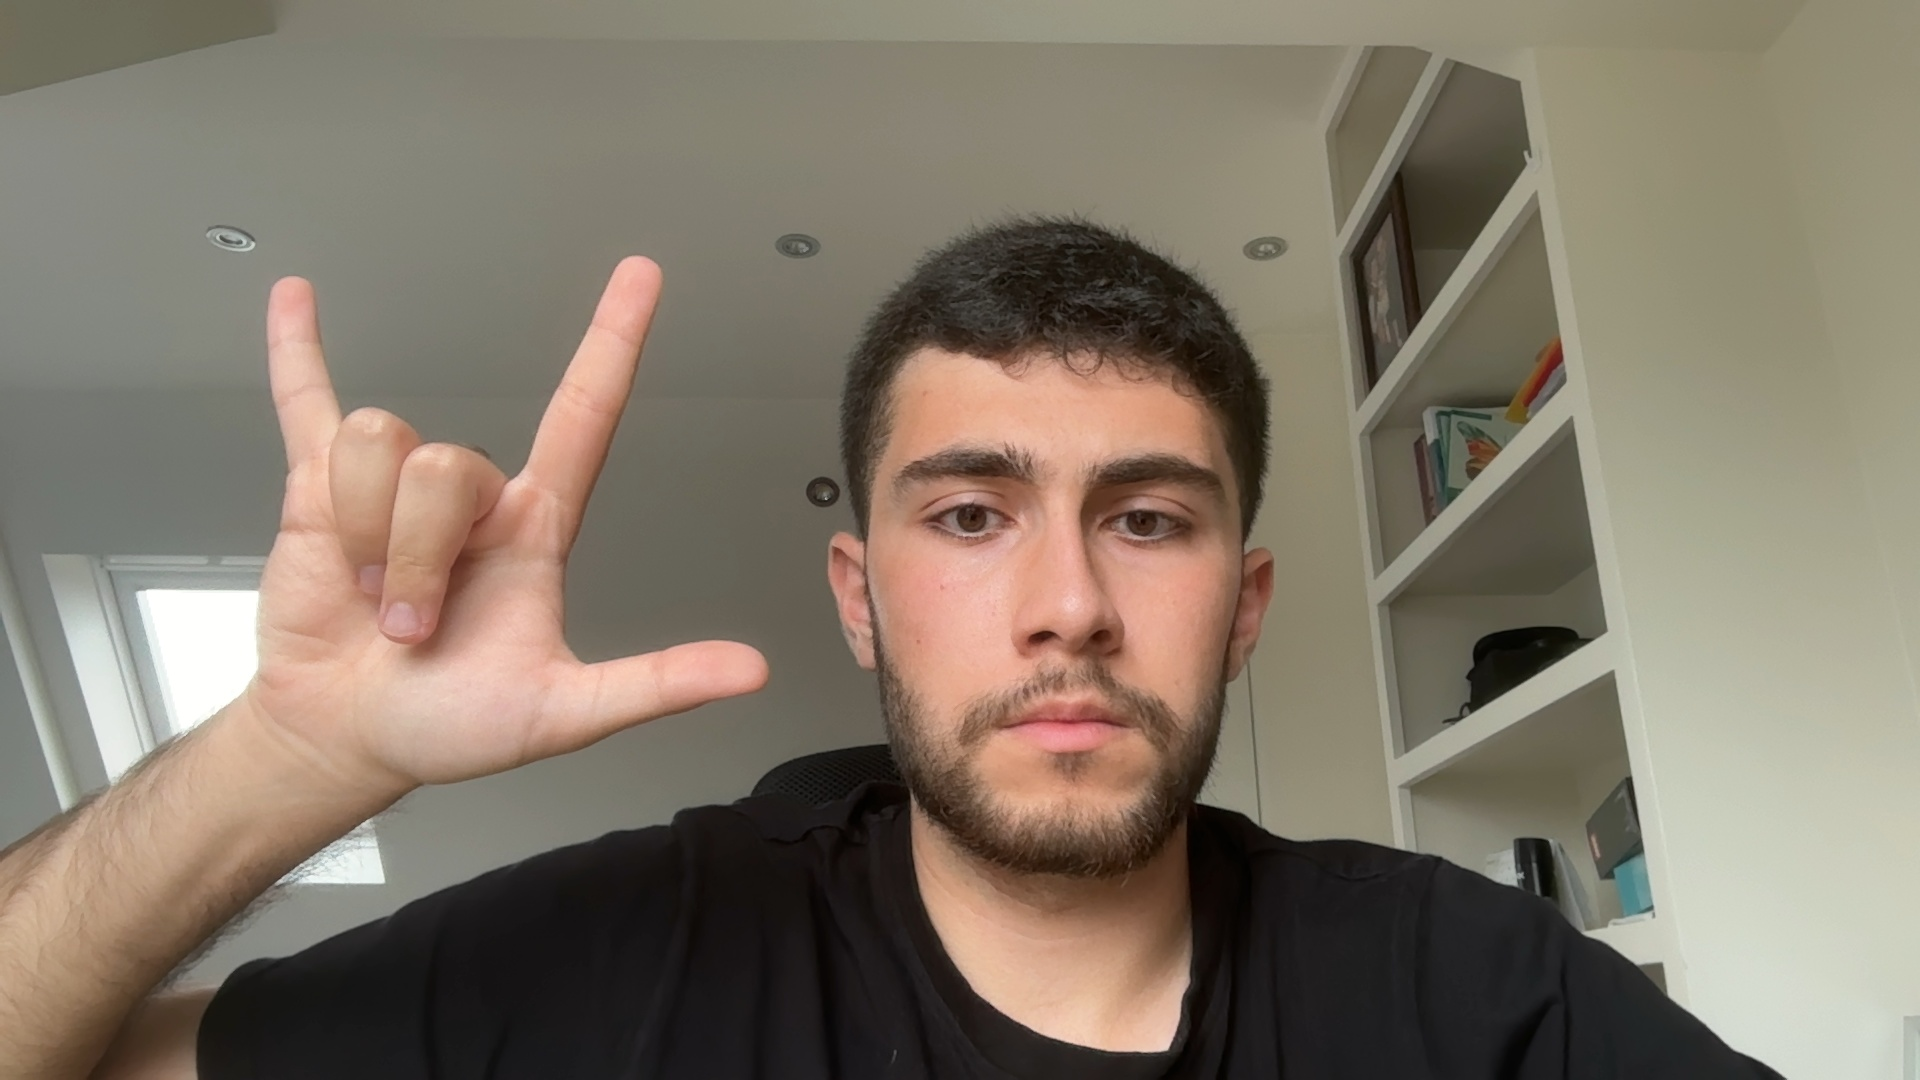I Love You: (208, 241, 793, 789)
